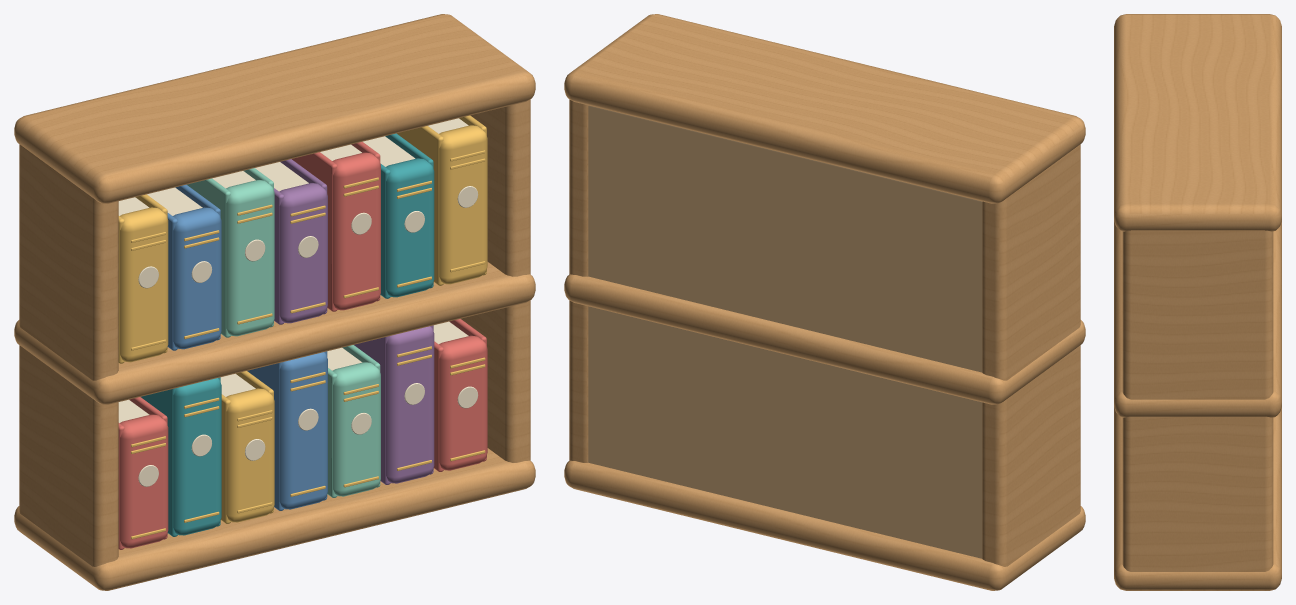
Rendered from playroom_bookshelf.glb.
The picture shows the model from 3 angles, left to right: view 1: azimuth 30°, elevation 25°; view 2: azimuth 150°, elevation 25°; view 3: azimuth 270°, elevation 25°; orthographic projection. The views are drawn at different scales.
Visible parts, largest first — view 1: playroom_bookshelf; view 2: playroom_bookshelf; view 3: playroom_bookshelf.
Boxes of the visible parts, x1,y1,x2,y2 form: playroom_bookshelf: (14, 14, 535, 590); playroom_bookshelf: (564, 14, 1085, 590); playroom_bookshelf: (1114, 14, 1281, 590).
Size of the model in its own units: 2.5 by 2.26 by 0.89.
9 materials, 1 textured.
